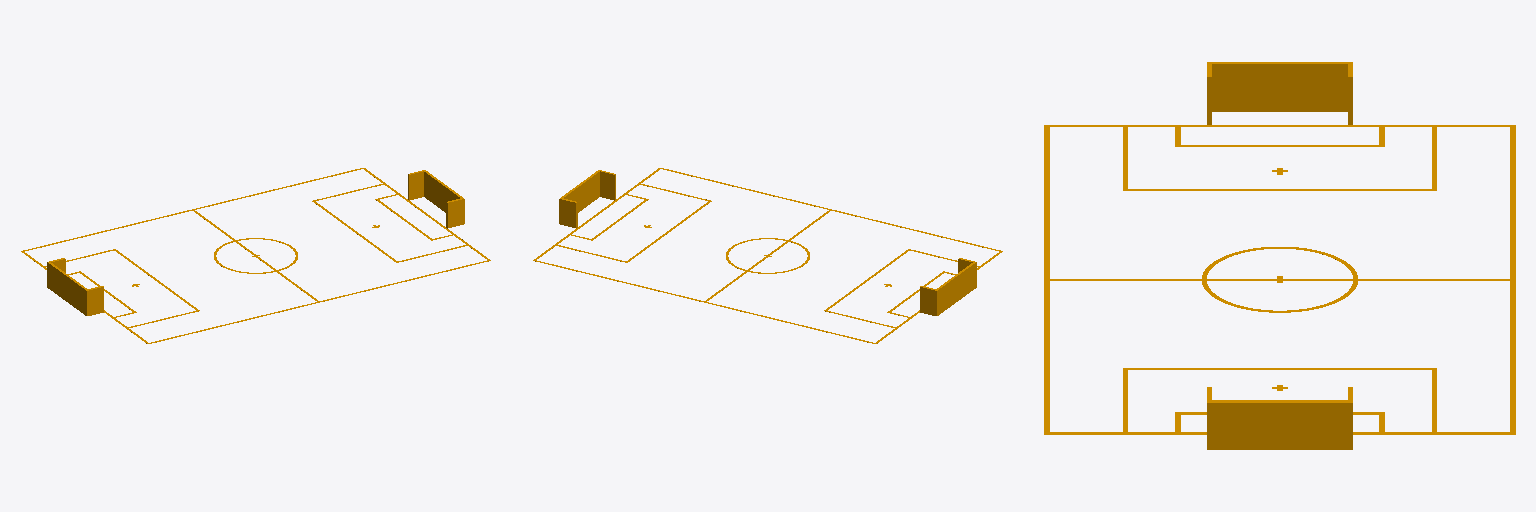
The robot description file, URDF, robot "goal":
<?xml version="1.0" encoding="utf-8"?>
<robot name="goal">
    <link name="goal_link">
        <visual>
            <geometry>
                <mesh filename="meshes/Lines.stl" />
            </geometry>
            <origin rpy="0 0 0" xyz="0 0 0" />
        </visual>
        <visual>
            <geometry>
                <box size="0.6 0.1 1.0" />
            </geometry>
            <origin rpy="0 0 0" xyz="-7.3 -1.35 0.5" />
        </visual>
        <visual>
            <geometry>
                <box size="0.6 0.1 1.0" />
            </geometry>
            <origin rpy="0 0 0" xyz="-7.3 1.35 0.5" />
        </visual>
        <visual>
            <geometry>
                <box size="0.1 2.8 1.0" />
            </geometry>
            <origin rpy="0 0 0" xyz="-7.65 0.0 0.5" />
        </visual>
        <visual>
            <geometry>
                <box size="0.6 0.1 1.0" />
            </geometry>
            <origin rpy="0 0 0" xyz="7.3 -1.35 0.5" />
        </visual>
        <visual>
            <geometry>
                <box size="0.6 0.1 1.0" />
            </geometry>
            <origin rpy="0 0 0" xyz="7.3 1.35 0.5" />
        </visual>
        <visual>
            <geometry>
                <box size="0.1 2.8 1.0" />
            </geometry>
            <origin rpy="0 0 0" xyz="7.65 0.0 0.5" />
        </visual>
        <collision>
            <geometry>
                <box size="0.6 0.1 1.0" />
            </geometry>
            <origin rpy="0 0 0" xyz="-7.3 -1.35 0.5" />
        </collision>
        <collision>
            <geometry>
                <box size="0.6 0.1 1.0" />
            </geometry>
            <origin rpy="0 0 0" xyz="-7.3 1.35 0.5" />
        </collision>
        <collision>
            <geometry>
                <box size="0.1 2.8 1.0" />
            </geometry>
            <origin rpy="0 0 0" xyz="-7.65 0.0 0.5" />
        </collision>
        <collision>
            <geometry>
                <box size="0.6 0.1 1.0" />
            </geometry>
            <origin rpy="0 0 0" xyz="7.3 -1.35 0.5" />
        </collision>
        <collision>
            <geometry>
                <box size="0.6 0.1 1.0" />
            </geometry>
            <origin rpy="0 0 0" xyz="7.3 1.35 0.5" />
        </collision>
        <collision>
            <geometry>
                <box size="0.1 2.8 1.0" />
            </geometry>
            <origin rpy="0 0 0" xyz="7.65 0.0 0.5" />
        </collision>
    </link>
</robot>

--- Facts derived from the render (not from the file) ---
3 views of the same robot in one strip: view 1: azimuth 30°, elevation 25°; view 2: azimuth 150°, elevation 25°; view 3: azimuth 270°, elevation 25° (orthographic).
Robot: goal — 1 links, 0 joints (none); root link goal_link; default pose: all joints at 0.
Links seen in each view (by area): view 1: goal_link; view 2: goal_link; view 3: goal_link.
Link boxes in pixels (bbox=[...]): goal_link: bbox=[21, 168, 490, 343]; goal_link: bbox=[533, 168, 1002, 343]; goal_link: bbox=[1044, 62, 1515, 449].
Bounding box of the posed robot: 15.4 × 9 × 1 m (x, y, z).
1 mesh visuals loaded from 1 distinct referenced files (1 binary STL).
